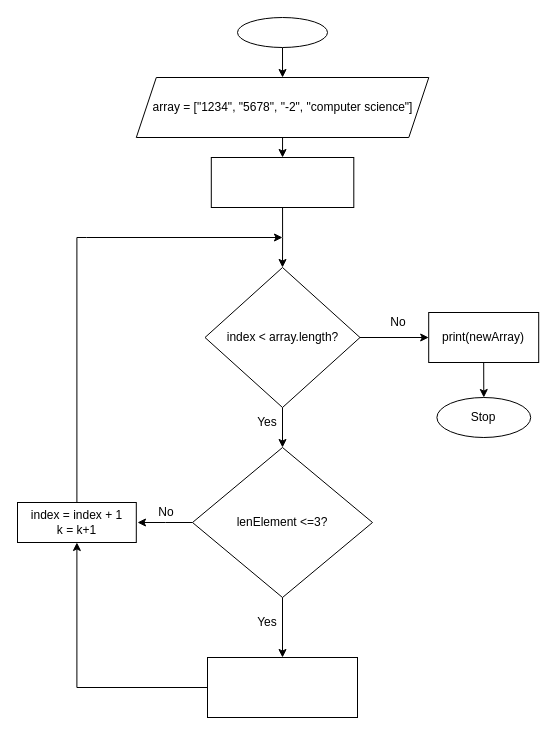
This 557x735 diagram has some shape labels left out. The centre of each missing label's shape, as x and y in pixels:
"index = 0 newArray = [] k = 0" goes at point 282,182.
"newArray[k] = array[index]" goes at point 282,687.
"Start" goes at point 282,32.
